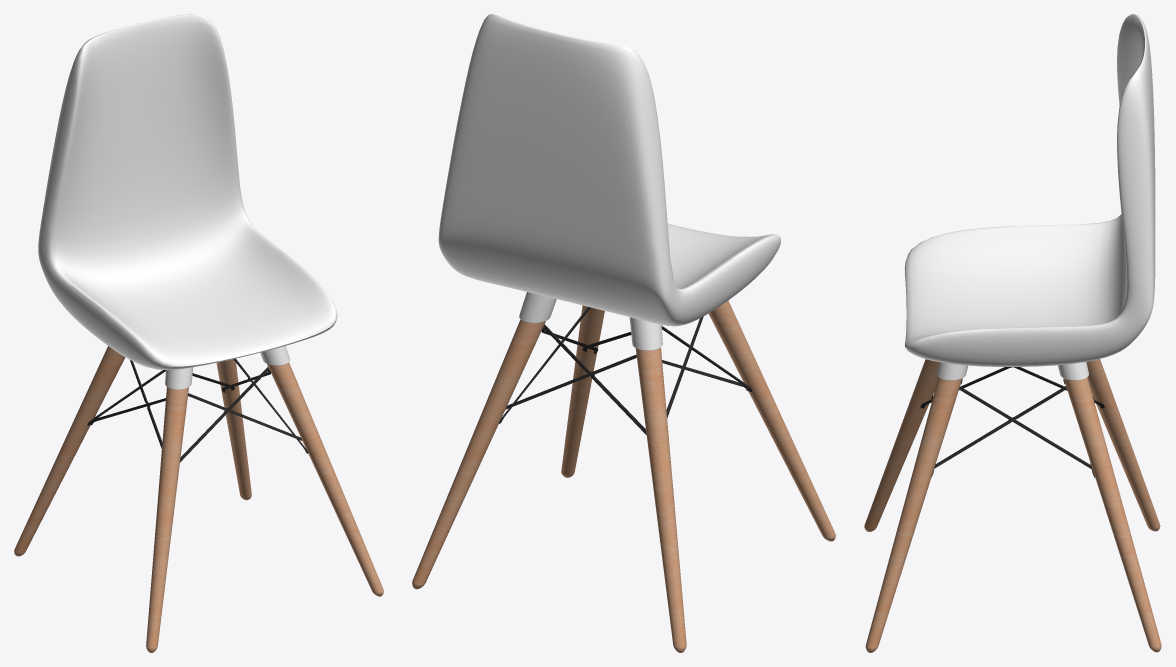
The model's file is nordic_chair.glb.
The picture shows the model from 3 angles, left to right: view 1: azimuth 30°, elevation 25°; view 2: azimuth 150°, elevation 25°; view 3: azimuth 270°, elevation 25°; orthographic projection. The views are drawn at different scales.
Visible parts, largest first — view 1: Object_2; view 2: Object_2; view 3: Object_2.
Part boxes in pixels (x1,y1,x2,y2): Object_2: [14, 14, 383, 652]; Object_2: [412, 14, 835, 652]; Object_2: [864, 14, 1161, 652].
Bounding box in the file's own units: 0.6157 × 1.26 × 0.6157.
1 material, 1 textured.
